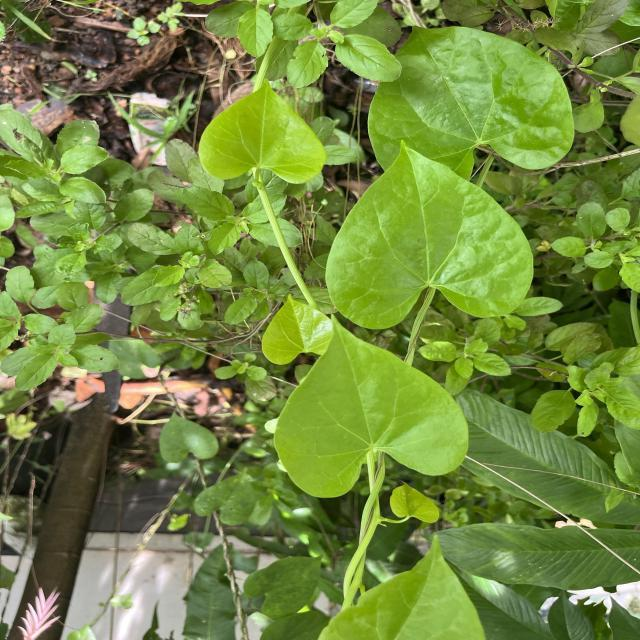Tinospora cordifolia: (322, 136, 537, 331), (272, 313, 472, 499), (366, 23, 577, 192), (197, 78, 328, 186)
